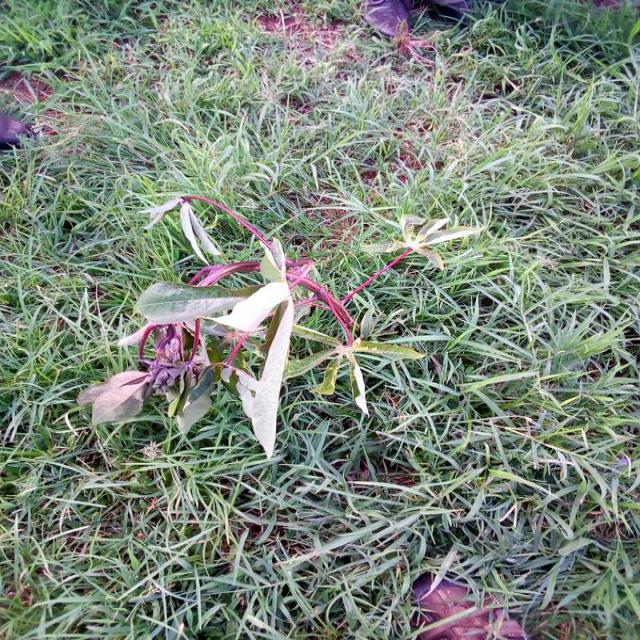cassava leaf: (78, 191, 477, 460)
